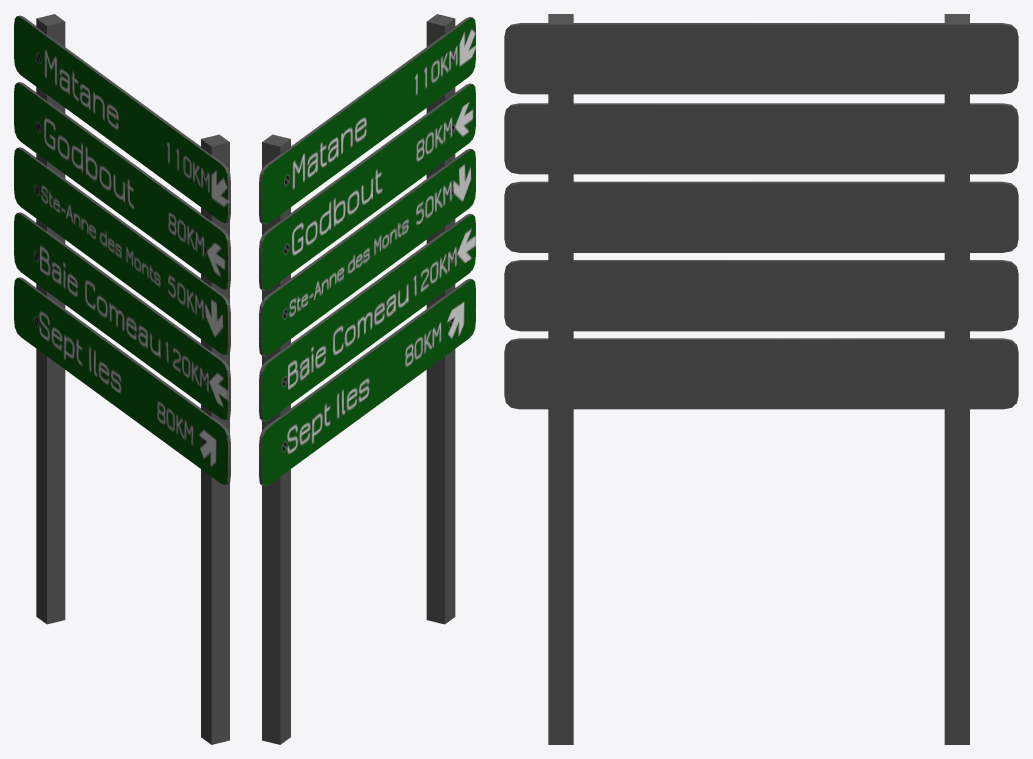
The model's file is pancarte_01.FBX.
The picture shows the model from 3 angles, left to right: view 1: azimuth 30°, elevation 25°; view 2: azimuth 150°, elevation 25°; view 3: azimuth 270°, elevation 25°; orthographic projection. The views are drawn at different scales.
Parts seen in each view (by area): view 1: PANCARTE; view 2: PANCARTE; view 3: PANCARTE.
Boxes of the visible parts, x1,y1,x2,y2 form: PANCARTE: (14,14,230,744); PANCARTE: (259,14,475,744); PANCARTE: (504,14,1018,744).
Bounding box in the file's own units: 8.02 × 224 × 145.
